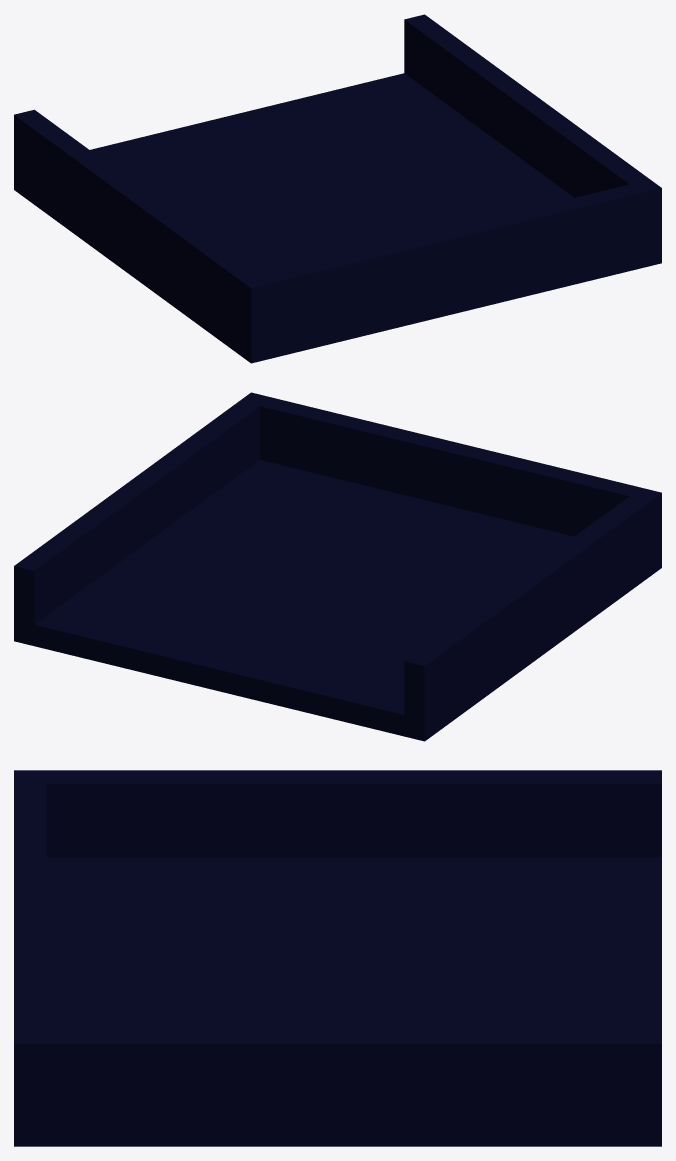
File: NavyRoof_3Edges.glb
The picture shows the model from 3 angles, top to bottom: view 1: azimuth 30°, elevation 25°; view 2: azimuth 150°, elevation 25°; view 3: azimuth 270°, elevation 25°; orthographic projection. The views are drawn at different scales.
Visible parts, largest first — view 1: roof_flat_3Edges_navy; view 2: roof_flat_3Edges_navy; view 3: roof_flat_3Edges_navy.
Part boxes in pixels (<box>): roof_flat_3Edges_navy: <box>14,14,661,363</box>; roof_flat_3Edges_navy: <box>14,392,661,741</box>; roof_flat_3Edges_navy: <box>14,770,661,1146</box>.
Size of what is drawn, in the model's own units: 4 by 0.7 by 4.
Materials: 1 (1 with a texture image).
